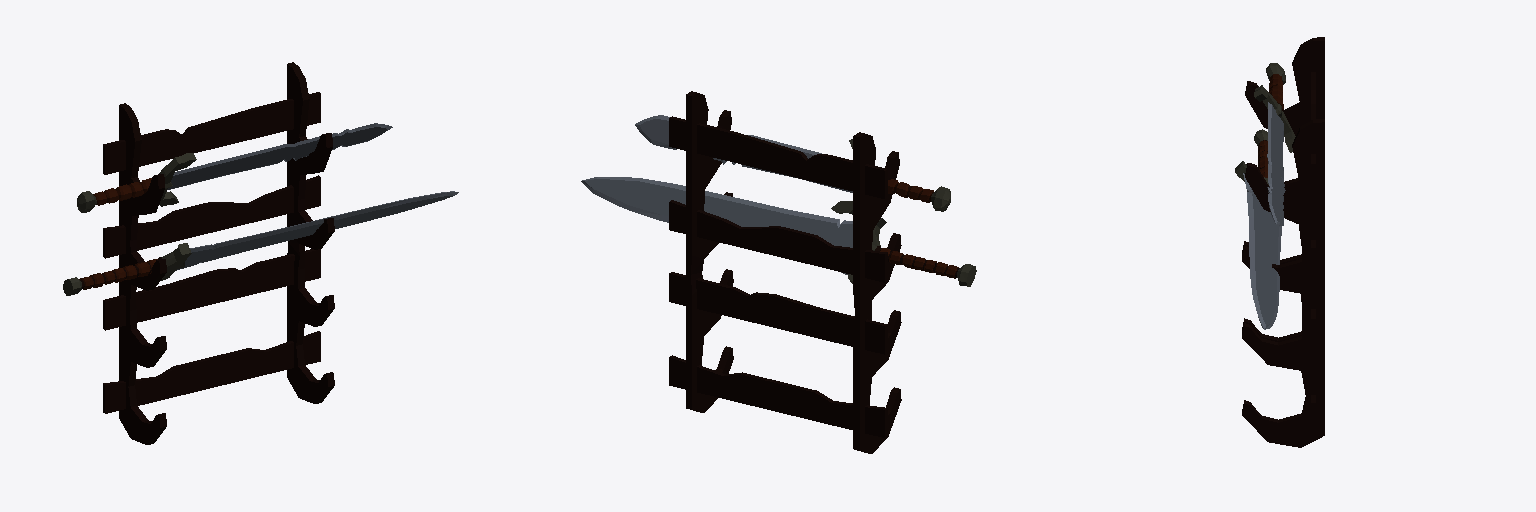
File: Sword_WallMount.obj
3 renders of one model, left to right at view 1: azimuth 30°, elevation 25°; view 2: azimuth 150°, elevation 25°; view 3: azimuth 270°, elevation 25°, orthographic.
Parts seen in each view (by area): view 1: Sword_WallMount_Cube.002, Sword_big_Cylinder.009, Sword_Cylinder.005; view 2: Sword_WallMount_Cube.002, Sword_big_Cylinder.009, Sword_Cylinder.005; view 3: Sword_WallMount_Cube.002, Sword_big_Cylinder.009, Sword_Cylinder.005.
Part boxes in pixels (bbox=[...]): Sword_WallMount_Cube.002: bbox=[103, 62, 334, 444]; Sword_big_Cylinder.009: bbox=[63, 191, 458, 295]; Sword_Cylinder.005: bbox=[77, 123, 392, 212]; Sword_WallMount_Cube.002: bbox=[669, 91, 901, 453]; Sword_big_Cylinder.009: bbox=[581, 177, 976, 286]; Sword_Cylinder.005: bbox=[635, 115, 950, 214]; Sword_WallMount_Cube.002: bbox=[1242, 37, 1324, 447]; Sword_big_Cylinder.009: bbox=[1235, 129, 1281, 329]; Sword_Cylinder.005: bbox=[1254, 63, 1295, 225].
Size of the model in its own units: 1.07 by 0.8471 by 0.2117.